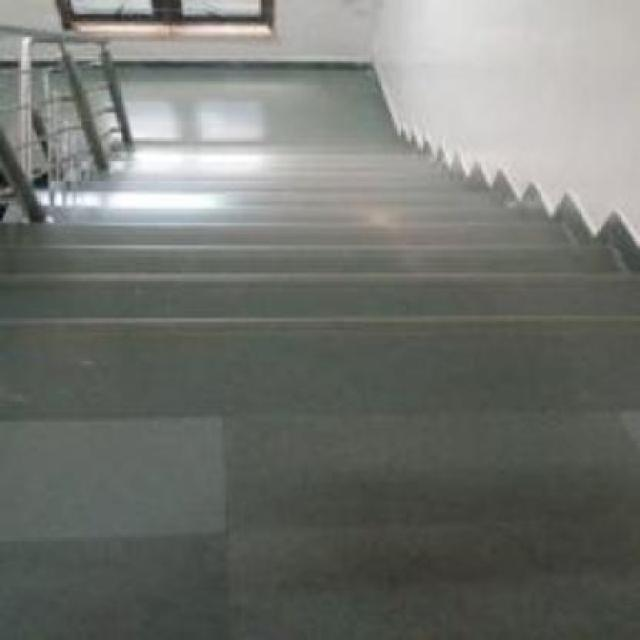stair: (4, 136, 640, 363)
